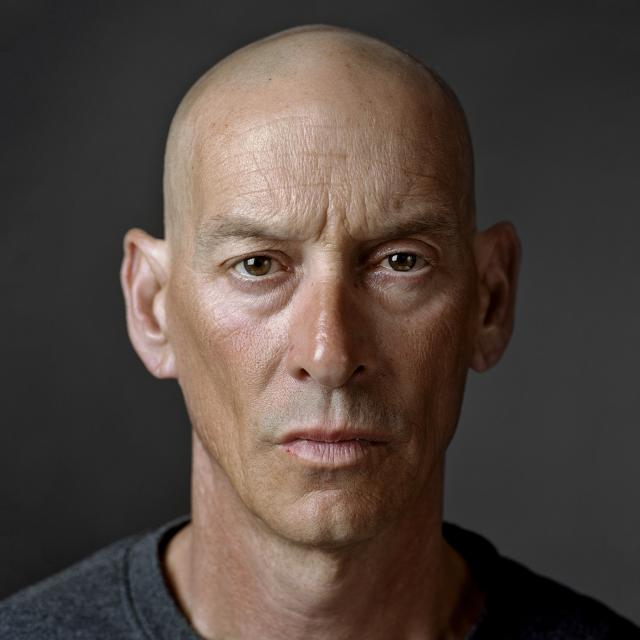earlobe: (472, 323, 506, 374), (144, 335, 178, 380)
eye: (366, 245, 440, 280), (224, 250, 294, 284)
nose: (287, 366, 377, 413)
wholeear: (120, 230, 178, 380), (472, 220, 521, 373)
